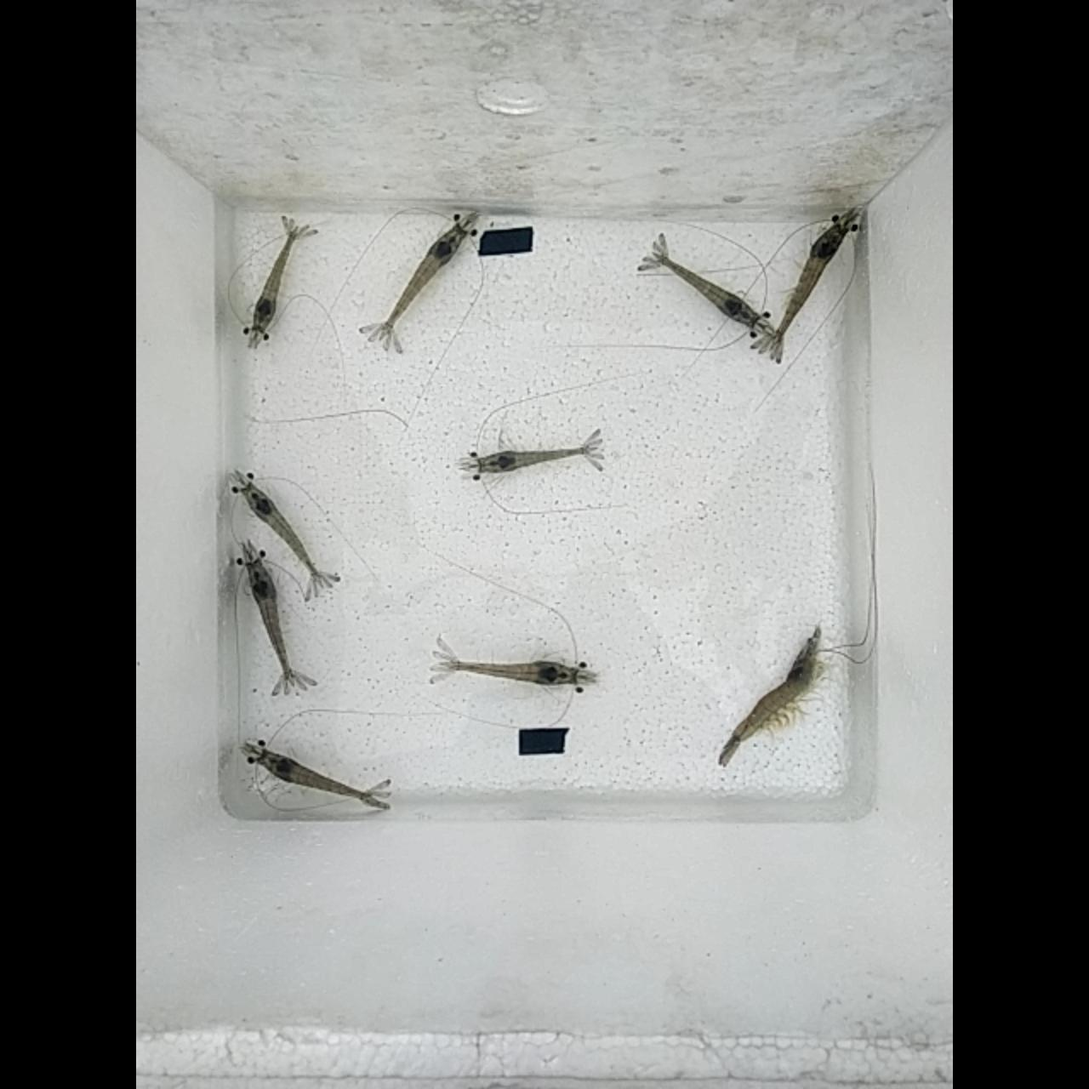box: (478, 226, 531, 255), (521, 728, 568, 754)
side_shrimp: (721, 652, 815, 759)
top_shrimp: (381, 226, 463, 334), (769, 226, 842, 345), (655, 254, 757, 325), (245, 487, 318, 577), (260, 752, 378, 801), (247, 562, 291, 681), (254, 228, 296, 327), (446, 660, 575, 686), (478, 449, 589, 471)
